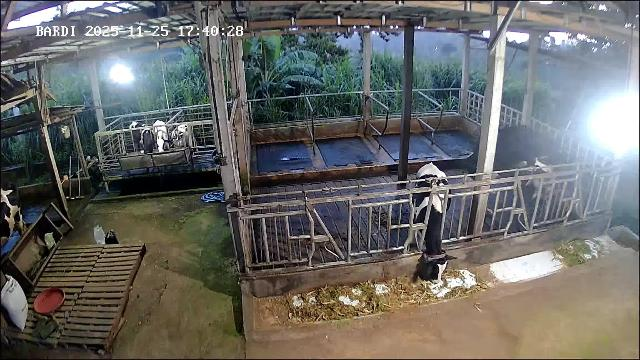mounting: (458, 126, 554, 206)
